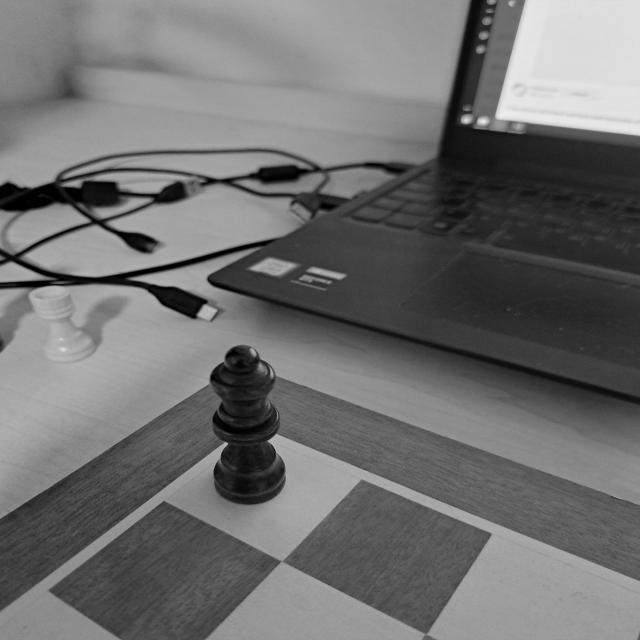chess-table-corners: (202, 423, 324, 485)
